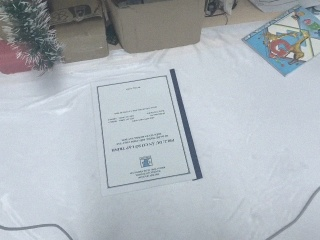book: (242, 4, 320, 80)
box: (106, 1, 206, 54)
